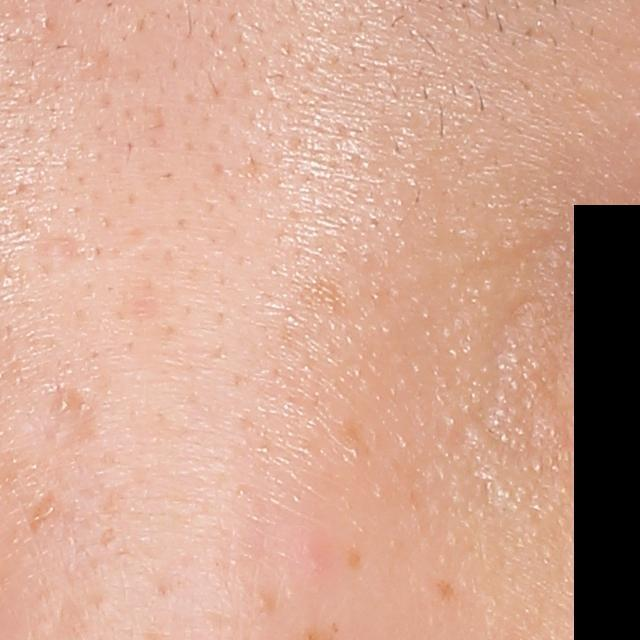atrophic_scar: (484, 301, 538, 445), (109, 245, 172, 325), (34, 231, 98, 282)
melasma: (297, 272, 352, 315), (25, 486, 67, 538), (343, 542, 367, 573), (435, 578, 458, 600)
